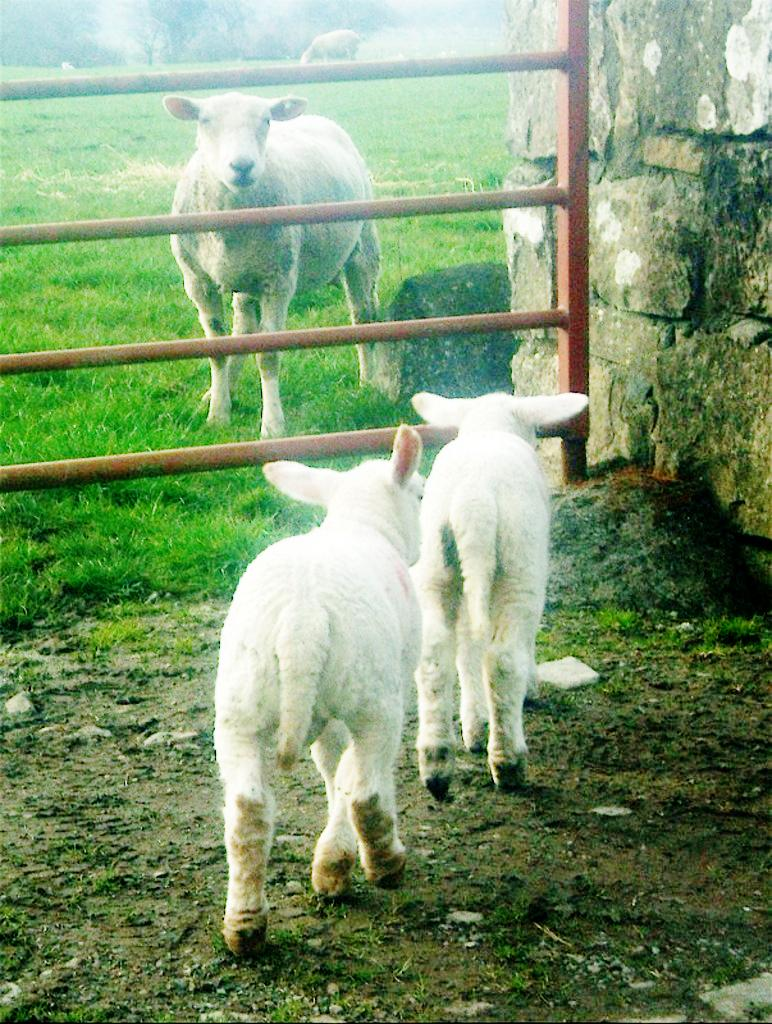Sheep: (208, 422, 421, 946), (162, 96, 390, 440), (412, 392, 586, 800)
